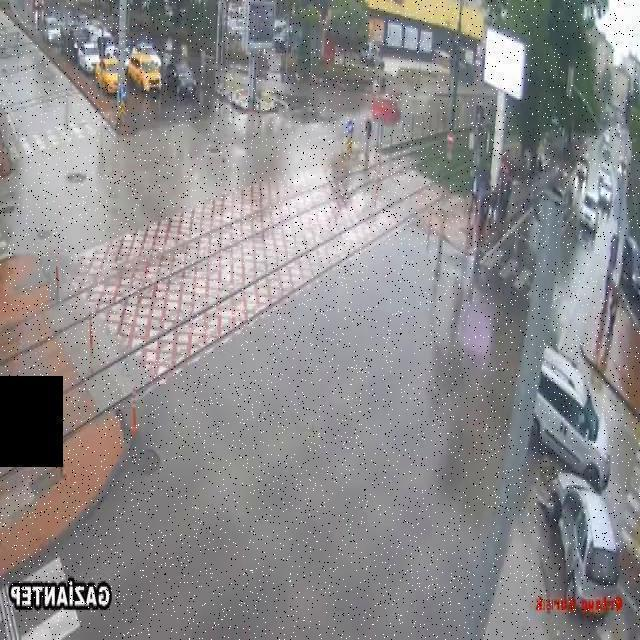accident: (525, 328, 623, 622)
